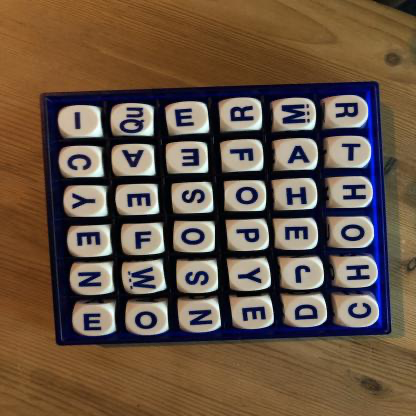a: (277, 141, 316, 170), (115, 147, 153, 176)
c: (337, 297, 379, 329), (64, 148, 102, 178)
d: (287, 295, 329, 328)
e: (275, 220, 317, 251), (232, 300, 272, 332), (168, 105, 211, 134), (69, 228, 111, 257), (168, 144, 208, 174), (74, 307, 115, 336), (118, 187, 158, 215)
f: (123, 226, 164, 256), (223, 144, 262, 173)
h: (336, 257, 377, 288), (332, 178, 371, 209), (276, 181, 316, 210)
i: (59, 107, 103, 137)
j: (280, 259, 323, 291)
m: (273, 100, 315, 130)
n: (72, 265, 115, 295), (180, 303, 219, 334)
o: (329, 218, 371, 249), (176, 222, 215, 254), (127, 306, 168, 336), (228, 183, 267, 213)
p: (228, 222, 268, 251)
qu: (112, 106, 154, 137)
r: (220, 100, 262, 131), (324, 98, 365, 129)
s: (178, 262, 219, 294), (173, 184, 214, 213)
t: (329, 138, 367, 169)
w: (121, 264, 163, 294)
y: (228, 261, 270, 291), (68, 187, 107, 218)
